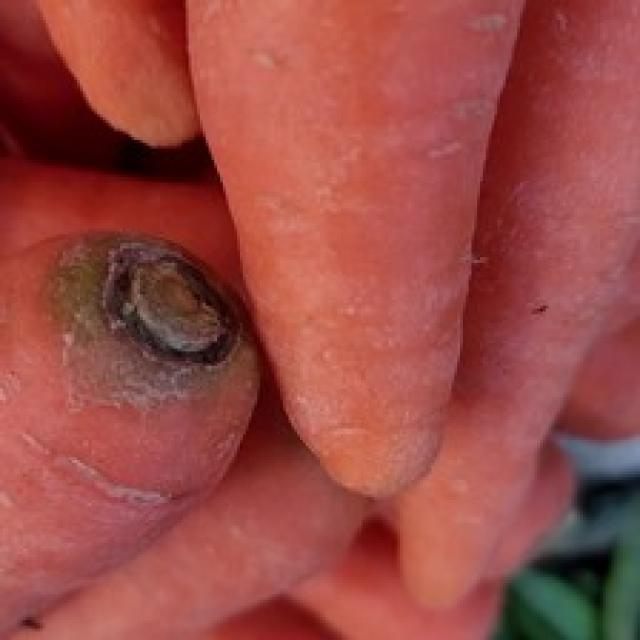Fresh_Carrot: (188, 0, 512, 500)
